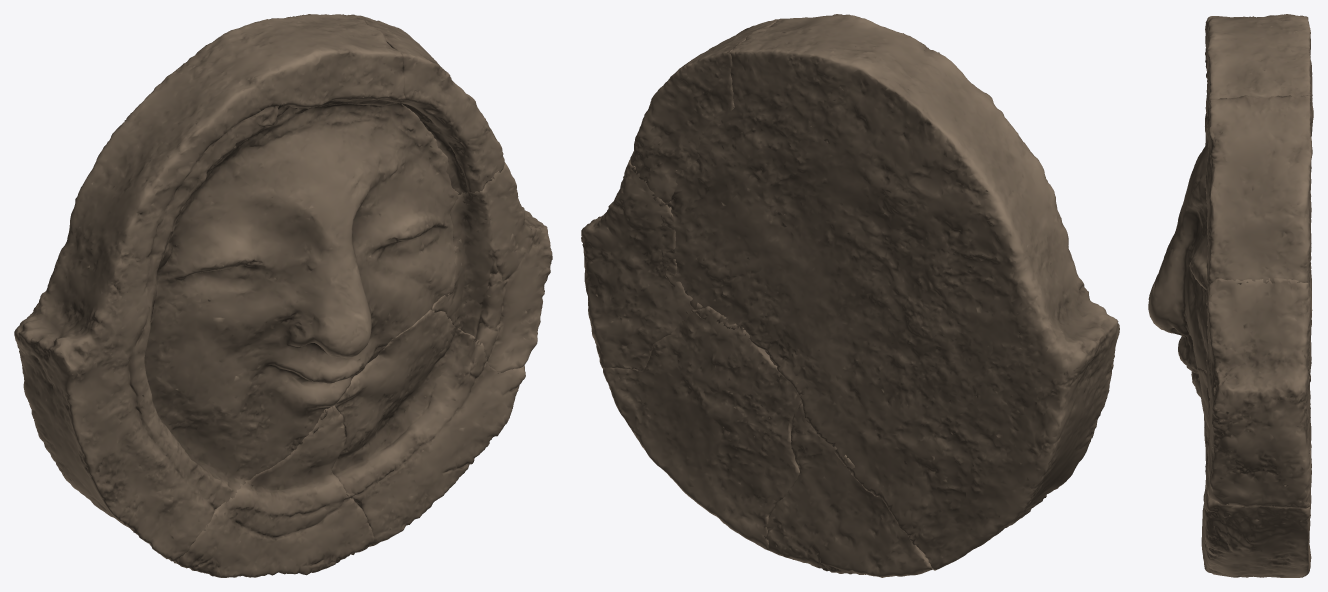
Rendered from sumaksae.glb.
3 renders of one model, left to right at view 1: azimuth 30°, elevation 25°; view 2: azimuth 150°, elevation 25°; view 3: azimuth 270°, elevation 25°, orthographic.
Visible parts, largest first — view 1: SM_ShillaSmileBlock_01; view 2: SM_ShillaSmileBlock_01; view 3: SM_ShillaSmileBlock_01.
Part boxes in pixels (bbox=[...]): SM_ShillaSmileBlock_01: bbox=[14, 14, 552, 577]; SM_ShillaSmileBlock_01: bbox=[581, 14, 1119, 577]; SM_ShillaSmileBlock_01: bbox=[1148, 14, 1313, 577].
Bounding box in the file's own units: 2.75 × 2.7 × 0.7794.
